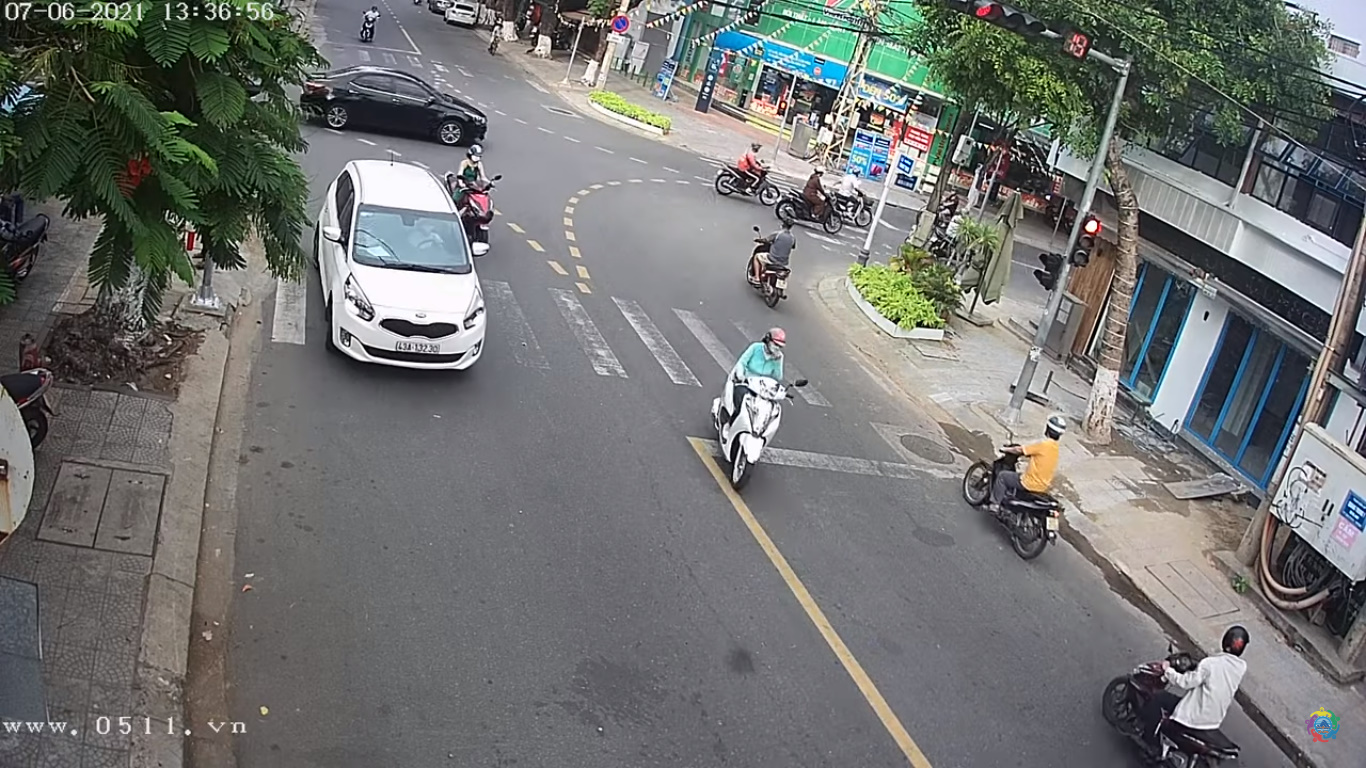car: (315, 164, 492, 373)
